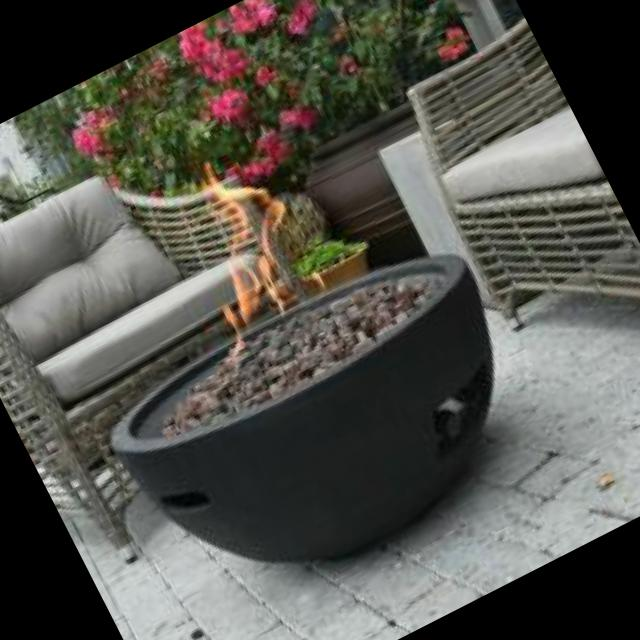fire: (137, 135, 334, 367)
